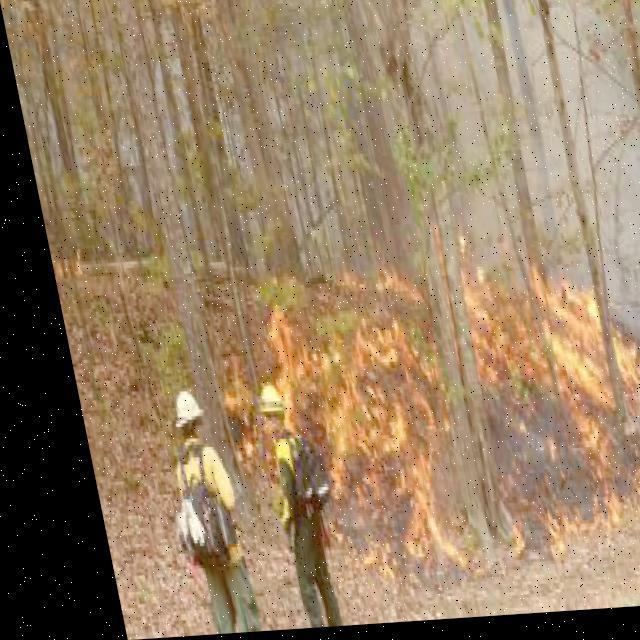Fire: (186, 252, 639, 589)
